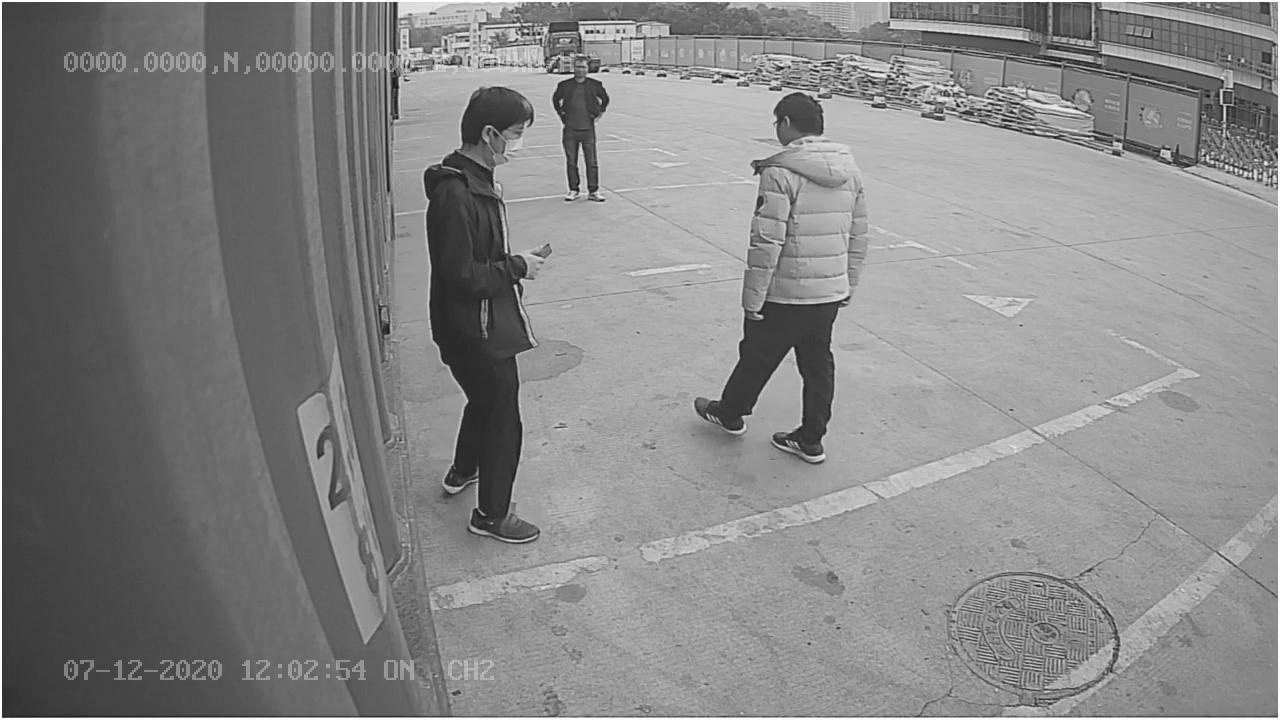person: (686, 84, 875, 465)
